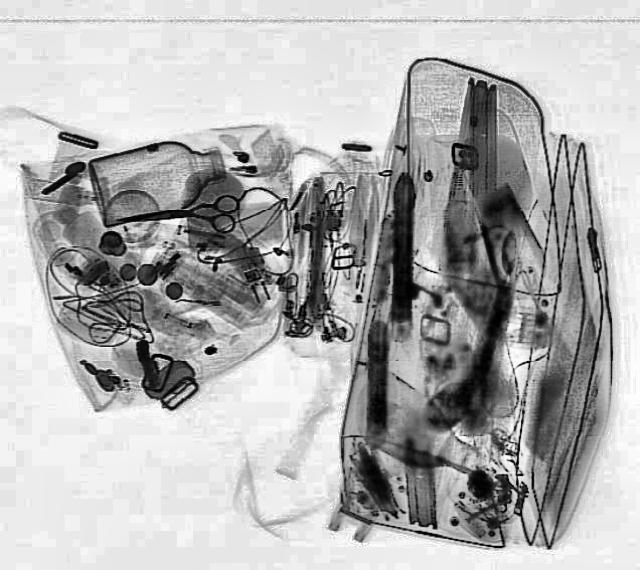Scissors: (116, 196, 238, 236)
